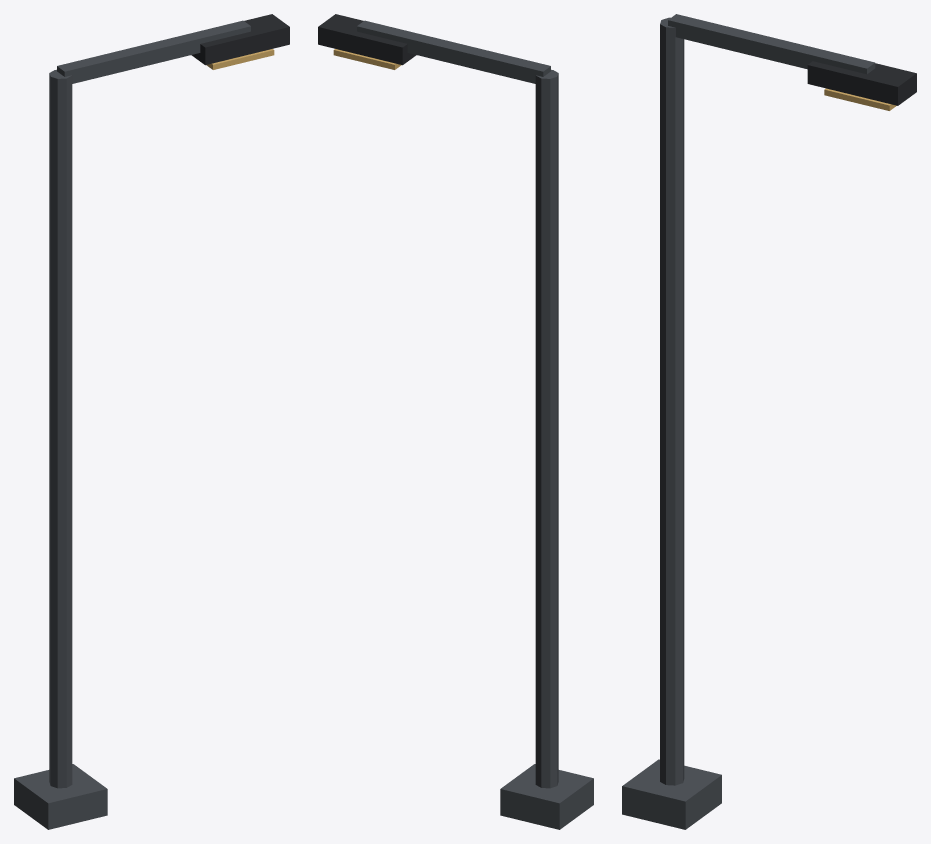
The model's file is prop.streetlamp.glb.
3 views of the same model, side by side, from view 1: azimuth 30°, elevation 25°; view 2: azimuth 150°, elevation 25°; view 3: azimuth 330°, elevation 25° (orthographic). The views are drawn at different scales.
Visible parts, largest first — view 1: prop.streetlamp; view 2: prop.streetlamp; view 3: prop.streetlamp.
Part boxes in pixels (box(x1,y1,x2,y2)): prop.streetlamp: box(14, 14, 289, 829); prop.streetlamp: box(318, 14, 593, 829); prop.streetlamp: box(622, 14, 916, 829).
Bounding box in the file's own units: 1.47 × 4.18 × 0.35.
